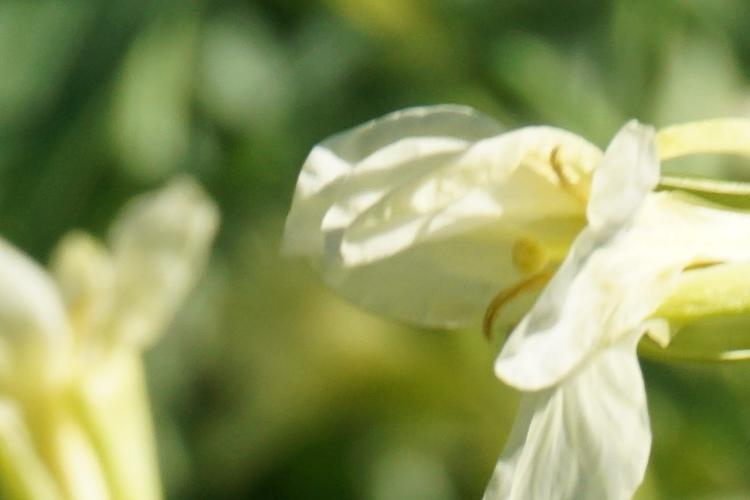white: (305, 107, 736, 496), (2, 206, 206, 488)
